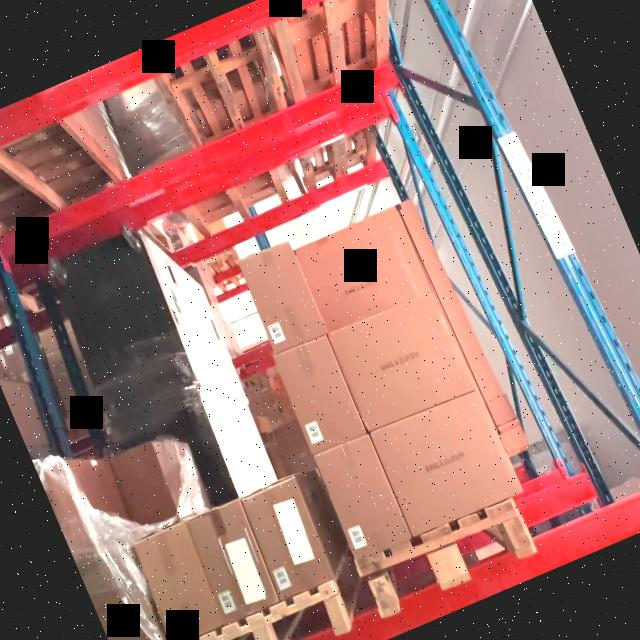box: (372, 391, 521, 536), (329, 294, 474, 431), (300, 230, 417, 327), (241, 479, 332, 602), (316, 438, 410, 557), (185, 502, 278, 621), (134, 520, 222, 640), (274, 336, 364, 450), (238, 240, 326, 350)
